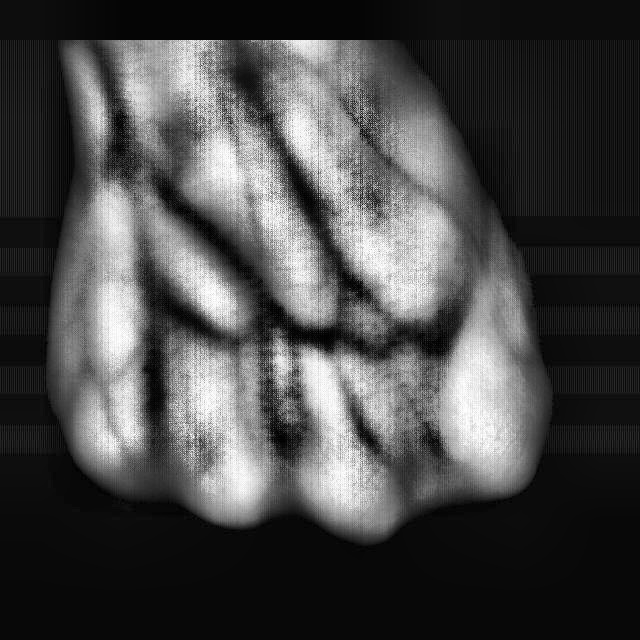Vein: (159, 188, 297, 337)
